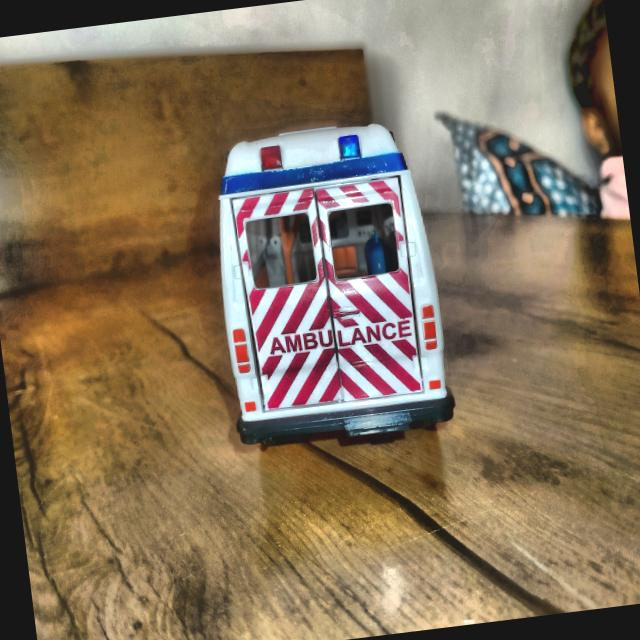Ambulance: (202, 116, 458, 459)
